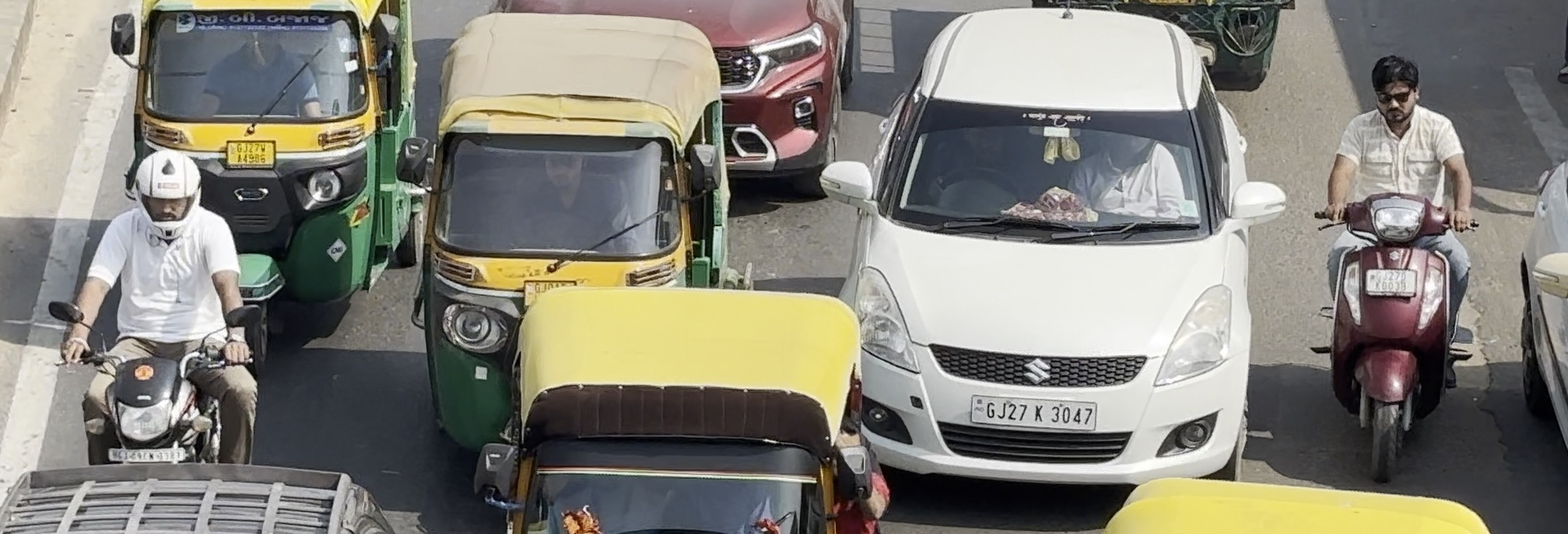BikeWithRider: (36, 141, 290, 483), (1299, 45, 1493, 490)
Helmet: (125, 144, 213, 229)
NoHelmet: (1359, 48, 1429, 125)
